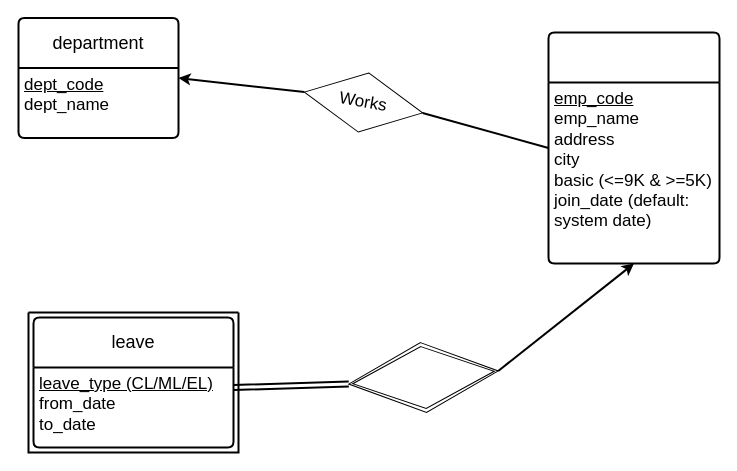
The diagram is 737 pixels wide and 471 high, and some of its shapes have lost their labels. Each missing label, with the box of its shape:
employee: (547, 31, 720, 264)
take_leave: (345, 335, 501, 419)
